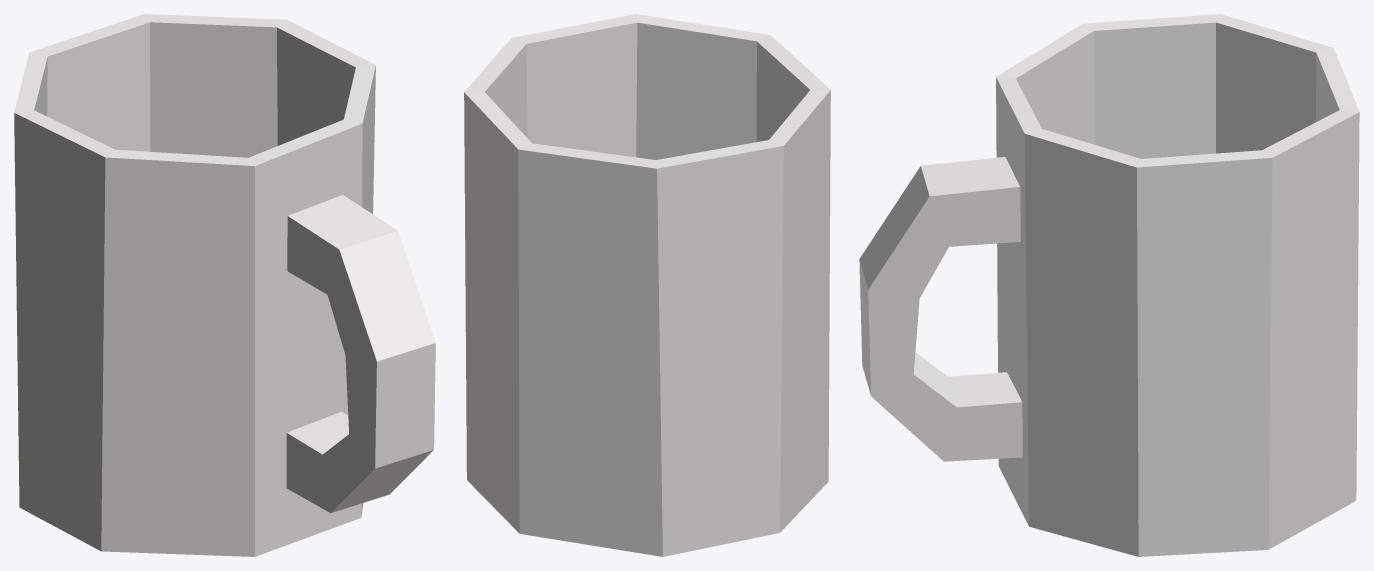
The model's file is Cup_3.fbx.
The picture shows the model from 3 angles, left to right: view 1: azimuth 30°, elevation 25°; view 2: azimuth 150°, elevation 25°; view 3: azimuth 270°, elevation 25°; orthographic projection.
Parts seen in each view (by area): view 1: Cup_3; view 2: Cup_3; view 3: Cup_3.
Boxes of the visible parts, x1,y1,x2,y2 form: Cup_3: (14,14,435,556); Cup_3: (464,14,830,556); Cup_3: (859,14,1359,556).
Size of the model in its own units: 14.02 by 19.19 by 16.92.
